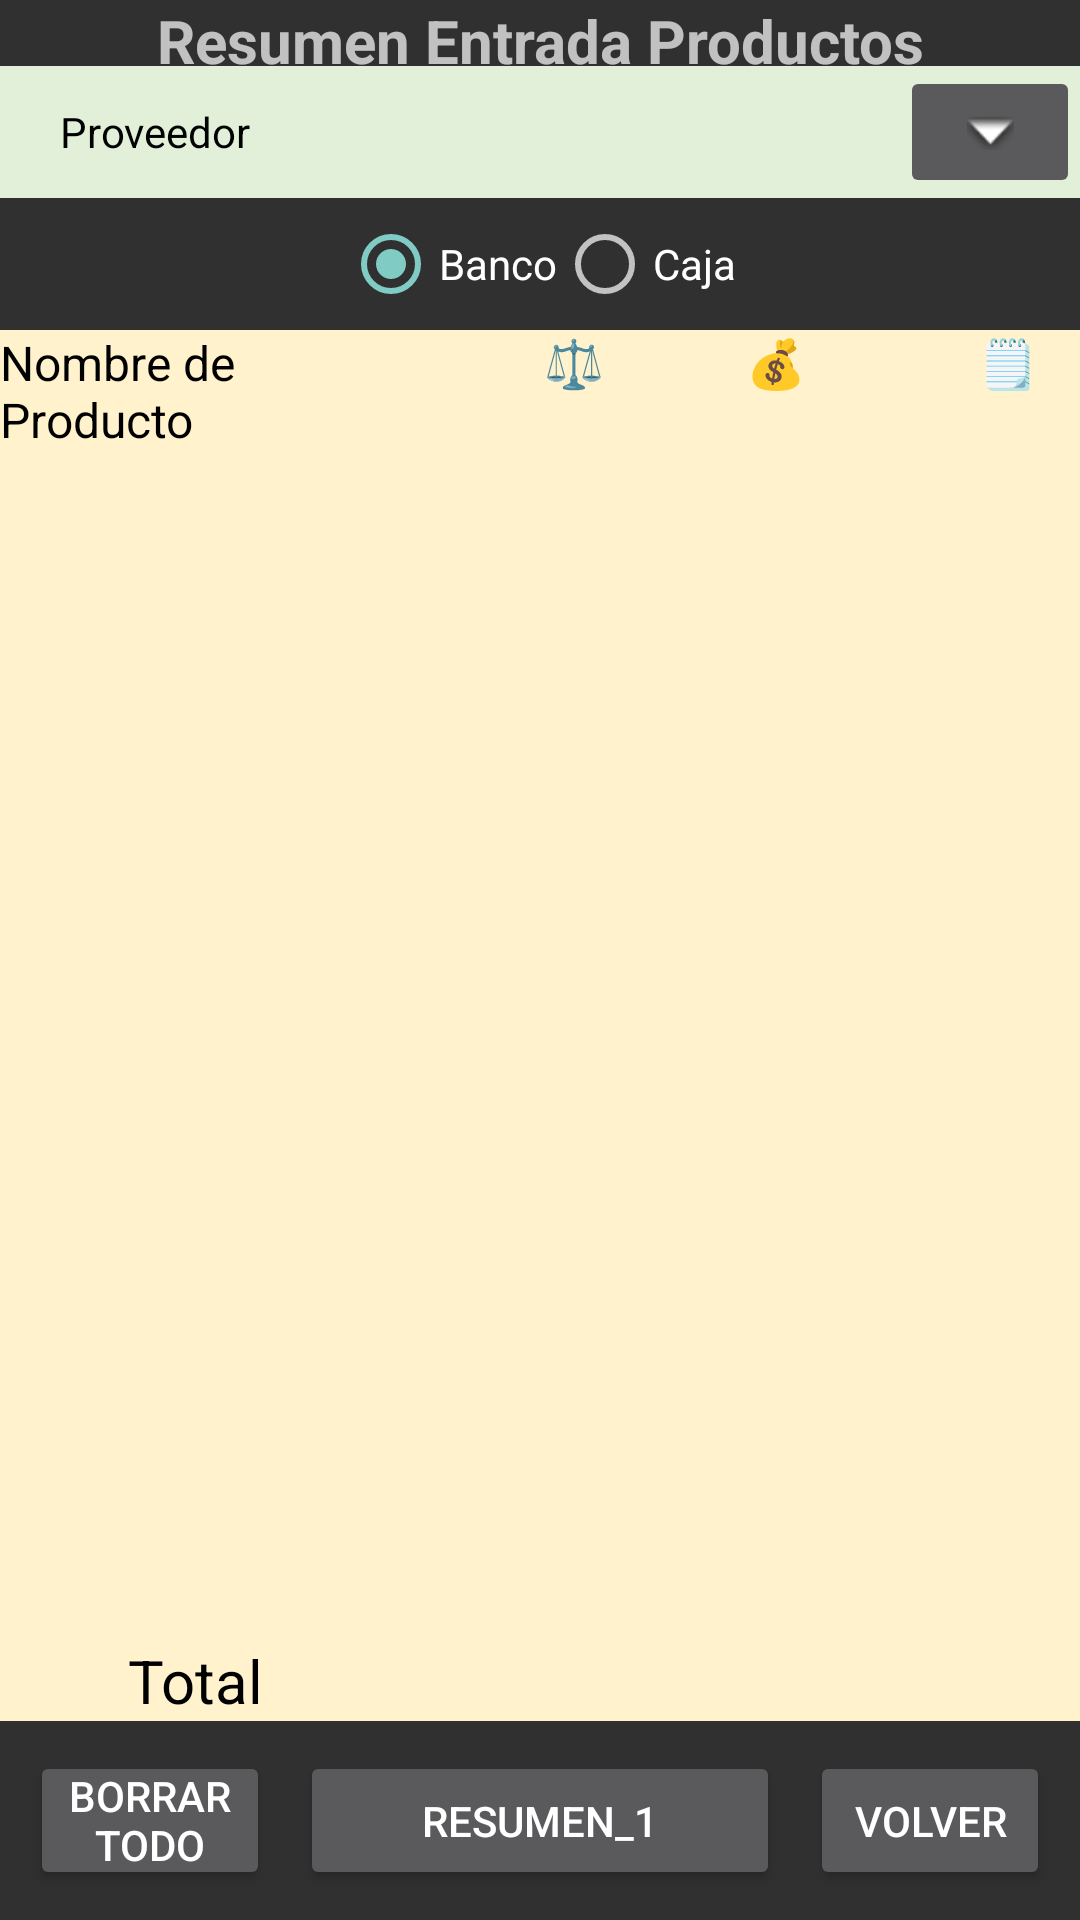

Named icons in this screenshot (1080w x 1920h) and their centers, (x=x, y=y):
arrow down float: (x=990, y=132)
